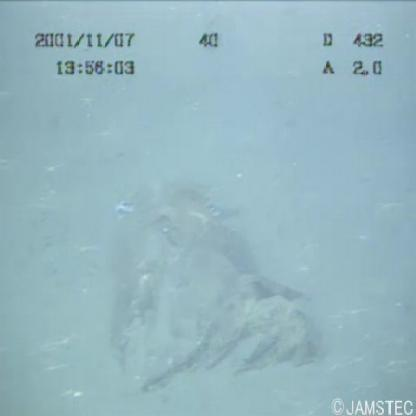Rác: (97, 183, 329, 388)
